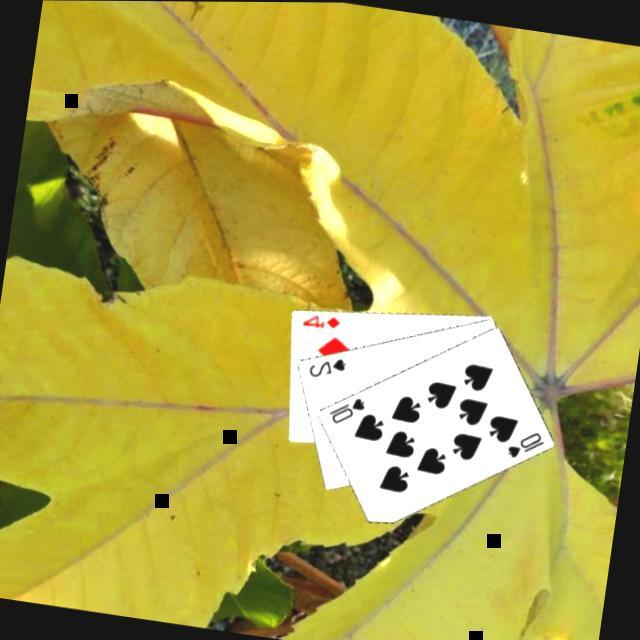10S: (324, 392, 368, 432), (504, 426, 548, 466)
2S: (305, 352, 350, 386)
4D: (300, 310, 344, 336)
